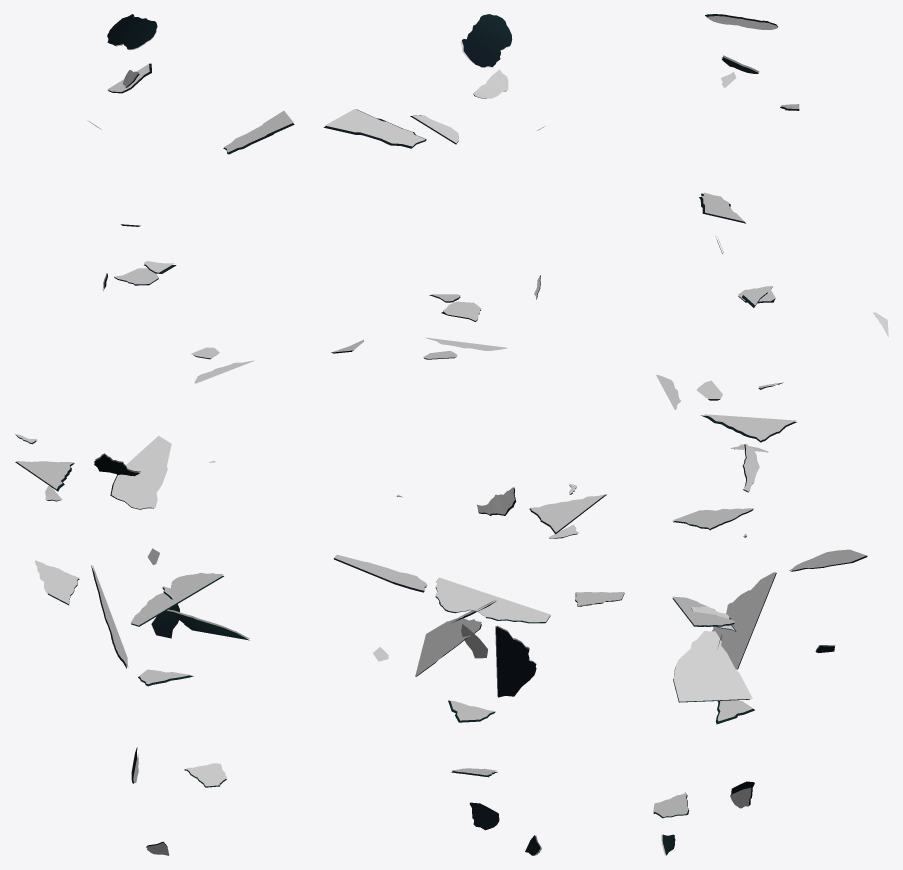
Rendered from Result_Glass_1.fbx.
3 renders of one model, left to right at view 1: azimuth 30°, elevation 25°; view 2: azimuth 150°, elevation 25°; view 3: azimuth 270°, elevation 25°, orthographic. The views are drawn at different scales.
Visible parts, largest first — view 1: LOD_1_Group_0_Sub_2__mat_back.002, LOD_1_Group_0_Sub_1__mat_front; view 2: LOD_1_Group_0_Sub_2__mat_back.002, LOD_1_Group_0_Sub_1__mat_front; view 3: LOD_1_Group_0_Sub_2__mat_back.002, LOD_1_Group_0_Sub_1__mat_front.
Part boxes in pixels (x1,y1,x2,y2): LOD_1_Group_0_Sub_2__mat_back.002: (15, 16, 293, 855); LOD_1_Group_0_Sub_1__mat_front: (15, 14, 294, 853); LOD_1_Group_0_Sub_2__mat_back.002: (325, 27, 624, 855); LOD_1_Group_0_Sub_1__mat_front: (323, 14, 624, 855); LOD_1_Group_0_Sub_2__mat_back.002: (653, 16, 888, 855); LOD_1_Group_0_Sub_1__mat_front: (653, 14, 867, 855).
Bounding box in the file's own units: 1540 × 4576 × 1151.
